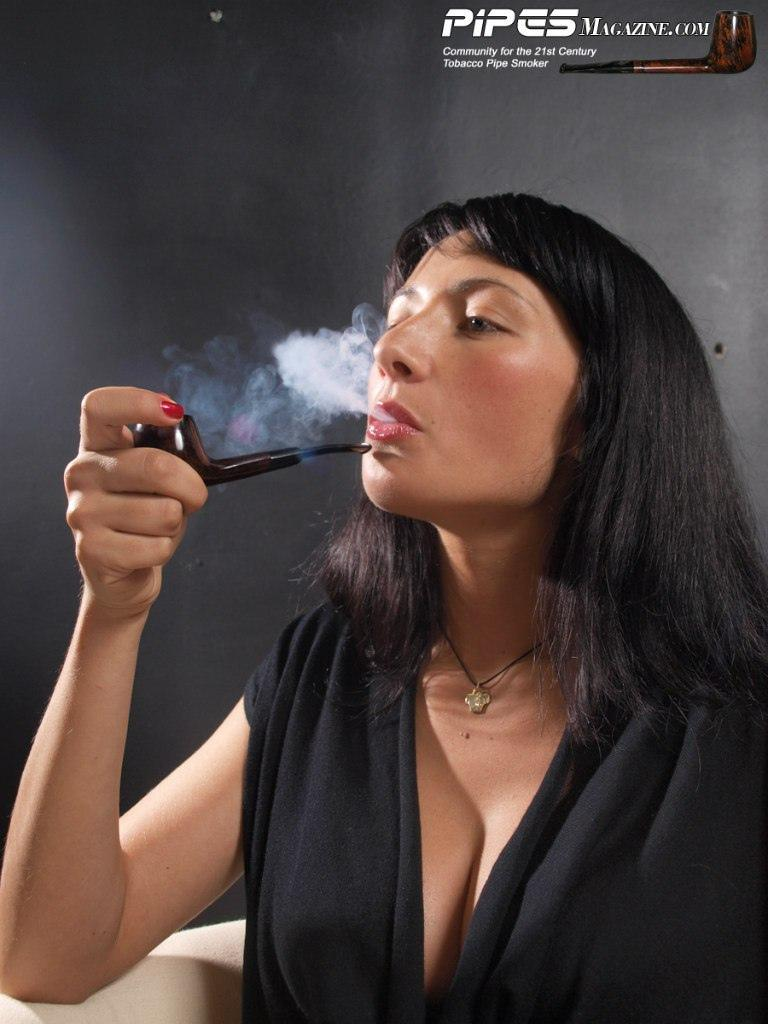trubka: (130, 415, 374, 486)
